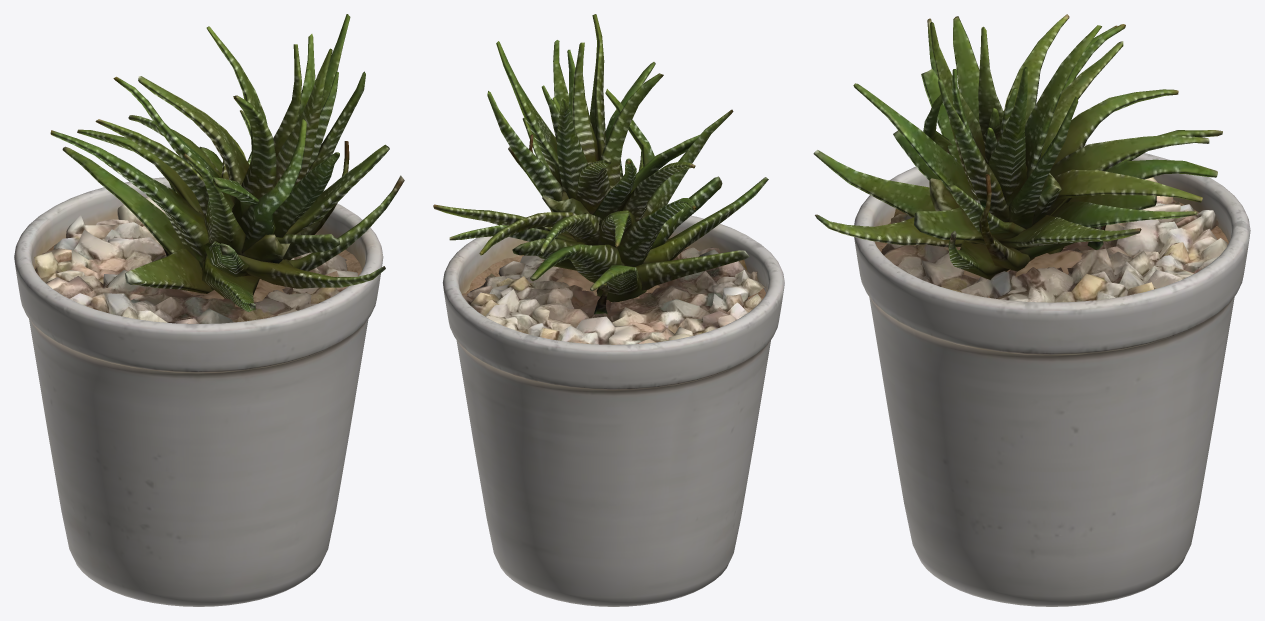
Rendered from potted_plant_04_2k.glb.
3 renders of one model, left to right at view 1: azimuth 30°, elevation 25°; view 2: azimuth 150°, elevation 25°; view 3: azimuth 270°, elevation 25°, orthographic. The views are drawn at different scales.
Visible parts, largest first — view 1: potted_plant_04_ground; view 2: potted_plant_04_ground; view 3: potted_plant_04_ground.
Part boxes in pixels (left/top/right/bottom): potted_plant_04_ground: left=14, top=14, right=404, bottom=606; potted_plant_04_ground: left=433, top=14, right=784, bottom=606; potted_plant_04_ground: left=813, top=14, right=1250, bottom=606.
Bounding box in the file's own units: 0.1679 × 0.2675 × 0.1847.
1 material, 1 textured.
